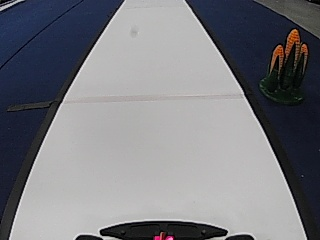corn: (259, 26, 309, 107)
